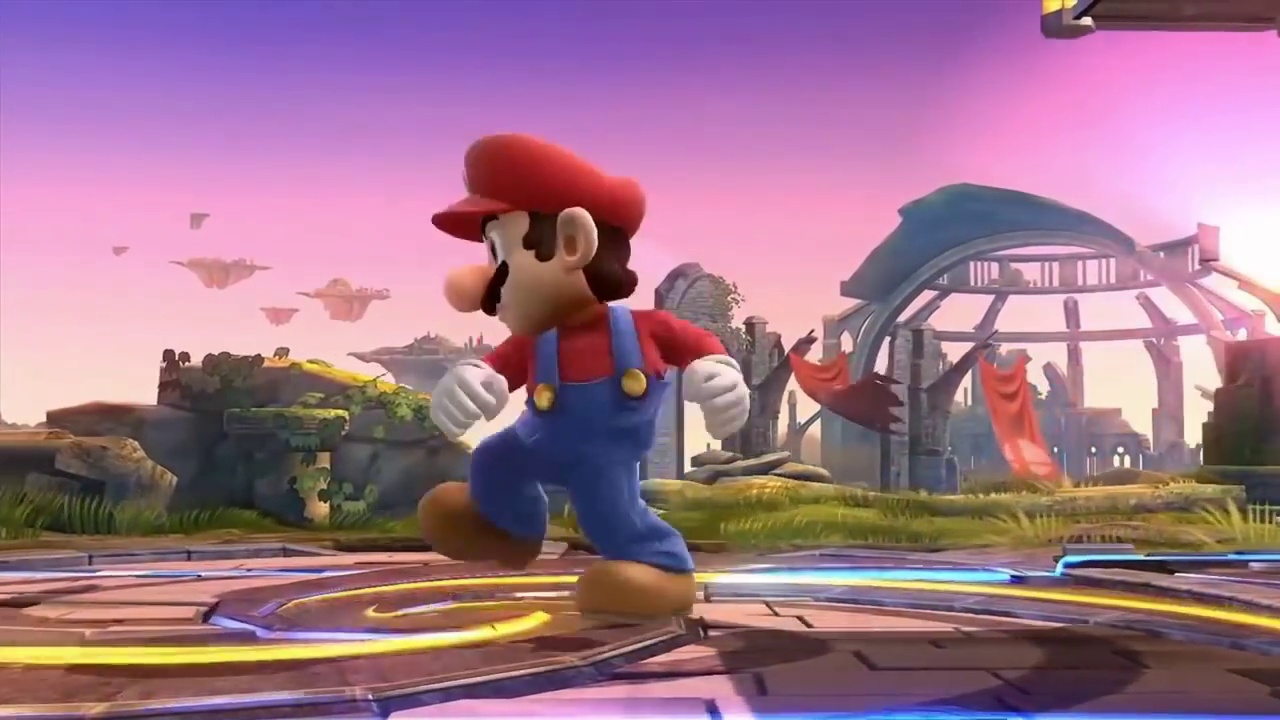Mario: (418, 132, 750, 617)
